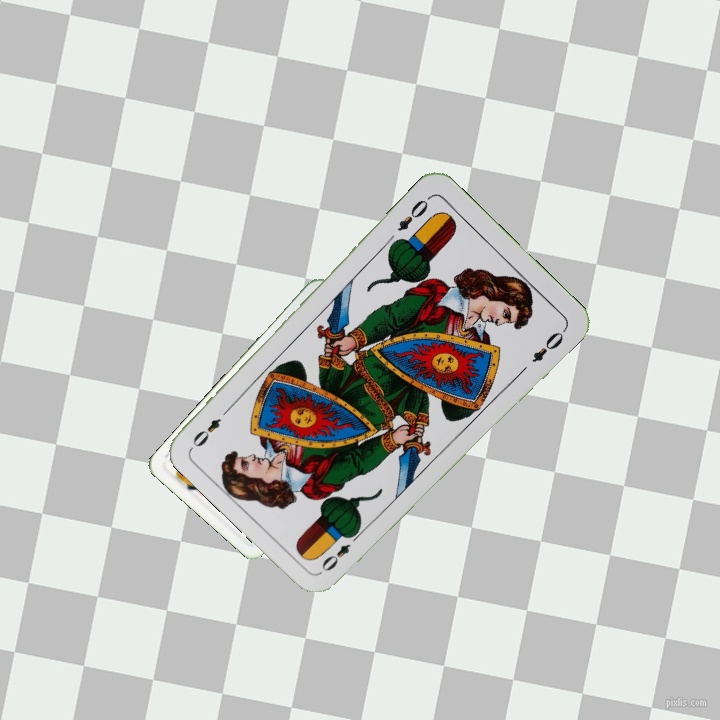EO: (317, 527, 364, 575), (393, 192, 433, 234)
